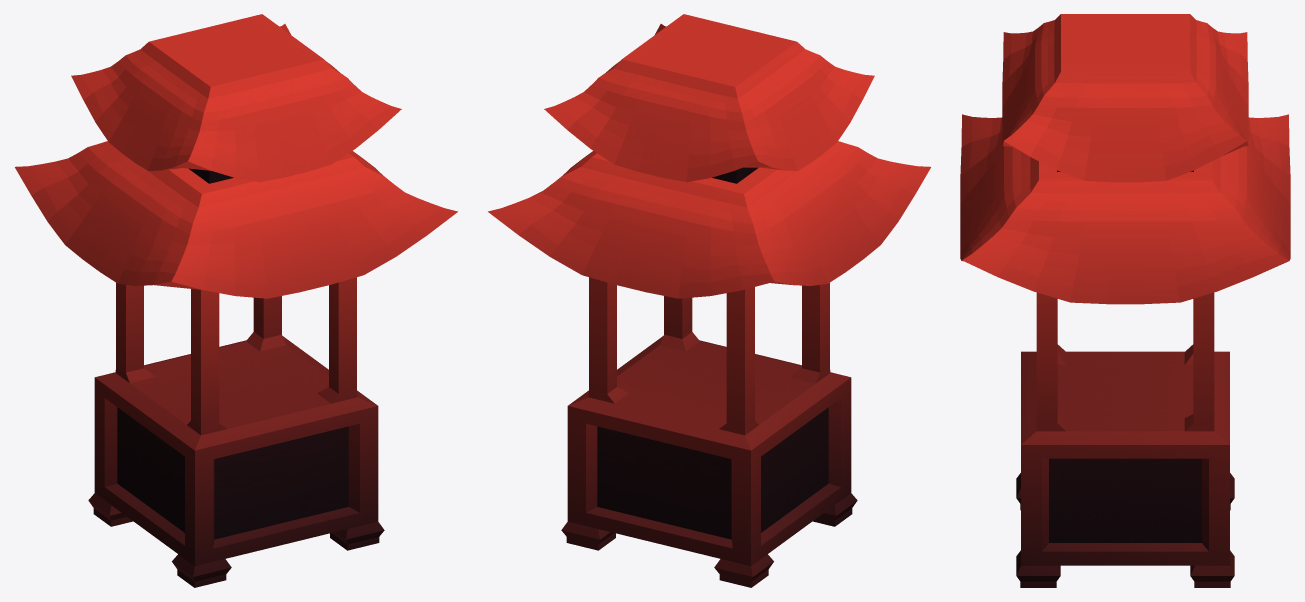
The model's file is Raven_Shrine.fbx.
The picture shows the model from 3 angles, left to right: view 1: azimuth 30°, elevation 25°; view 2: azimuth 150°, elevation 25°; view 3: azimuth 270°, elevation 25°; orthographic projection. The views are drawn at different scales.
Visible parts, largest first — view 1: Cube, Cube.002, Cube.003; view 2: Cube, Cube.002, Cube.003; view 3: Cube, Cube.002, Cube.003.
Part boxes in pixels (x1,y1,x2,y2): Cube: (88, 277, 384, 587); Cube.002: (15, 141, 457, 298); Cube.003: (71, 14, 401, 183); Cube: (561, 277, 857, 587); Cube.002: (488, 141, 930, 298); Cube.003: (544, 14, 874, 183); Cube: (1016, 292, 1234, 587); Cube.002: (960, 114, 1290, 304); Cube.003: (1002, 14, 1248, 182).
Bounding box in the file's own units: 509 × 802 × 482.
1 material, 1 textured.
